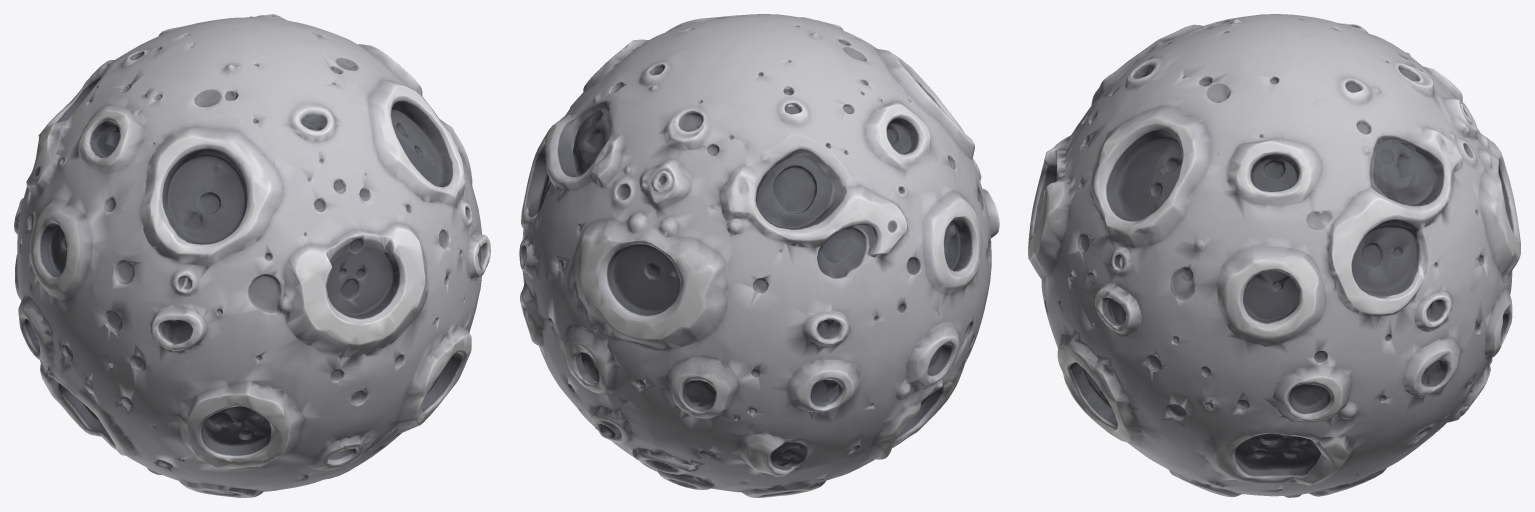
File: moon.glb
3 renders of one model, left to right at view 1: azimuth 30°, elevation 25°; view 2: azimuth 150°, elevation 25°; view 3: azimuth 270°, elevation 25°, orthographic.
Bounding box in the file's own units: 1.87 × 1.88 × 1.9.
1 material, 1 textured.
